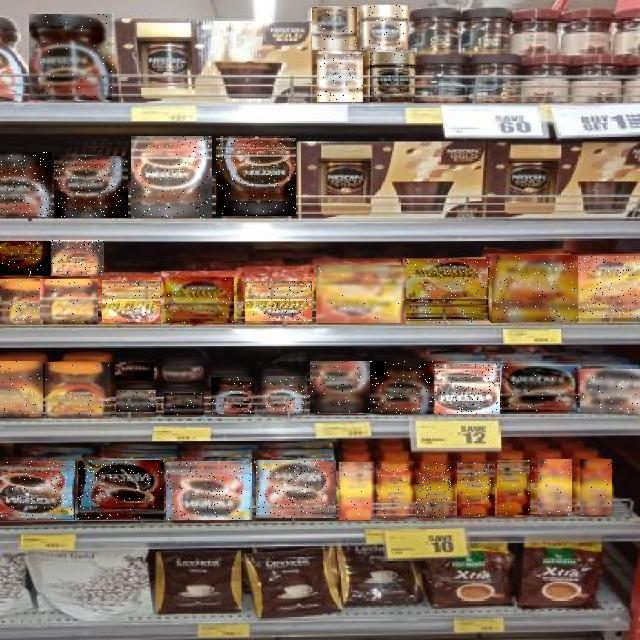Coffee: (30, 15, 114, 101), (131, 136, 212, 218), (216, 136, 296, 216), (493, 255, 579, 322), (406, 260, 492, 324), (316, 265, 406, 323), (78, 460, 164, 520), (166, 462, 252, 520), (256, 460, 336, 518), (54, 156, 128, 218), (0, 461, 75, 520), (577, 256, 640, 318), (45, 362, 110, 418), (502, 366, 578, 412), (370, 361, 435, 414), (0, 152, 52, 216), (434, 364, 500, 414), (166, 277, 234, 323), (310, 361, 370, 413), (245, 281, 312, 321), (580, 370, 640, 414), (40, 280, 98, 324), (102, 280, 161, 322), (0, 362, 43, 416), (370, 52, 415, 102), (317, 55, 363, 103), (360, 5, 408, 50), (340, 462, 376, 520), (416, 462, 453, 518), (457, 462, 495, 516), (498, 459, 534, 515), (50, 241, 104, 277), (312, 7, 357, 50), (0, 279, 43, 324), (539, 460, 573, 516), (376, 464, 410, 518), (580, 459, 612, 515), (0, 241, 51, 276), (262, 377, 307, 415), (211, 377, 254, 414), (164, 357, 204, 380), (116, 390, 156, 412), (164, 393, 204, 415), (115, 362, 154, 381)
